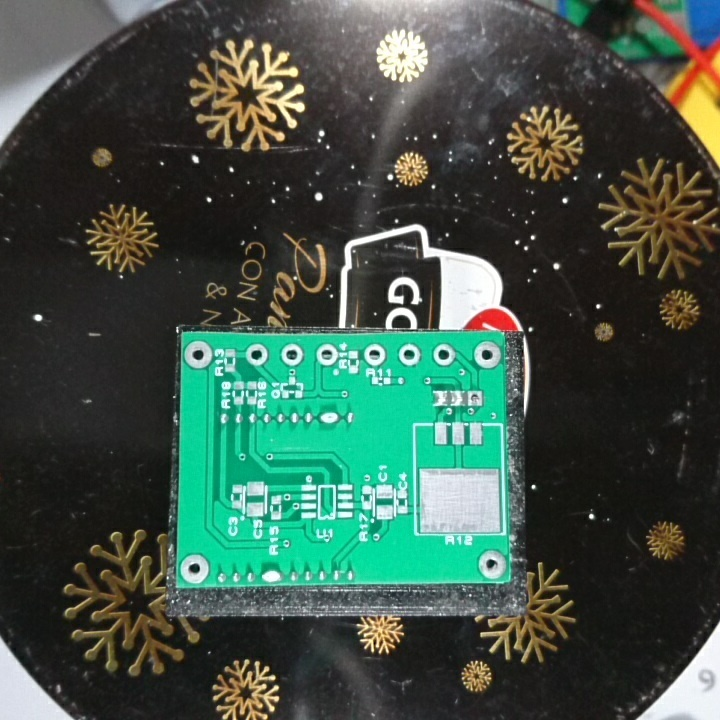F: (179, 549, 211, 586), (182, 339, 214, 372), (474, 549, 510, 578), (472, 338, 502, 370), (431, 340, 459, 369), (397, 340, 423, 370), (278, 342, 307, 368), (244, 342, 271, 369), (314, 341, 342, 367), (362, 342, 388, 368), (466, 389, 485, 409)
P: (316, 409, 341, 429), (260, 567, 283, 583)
